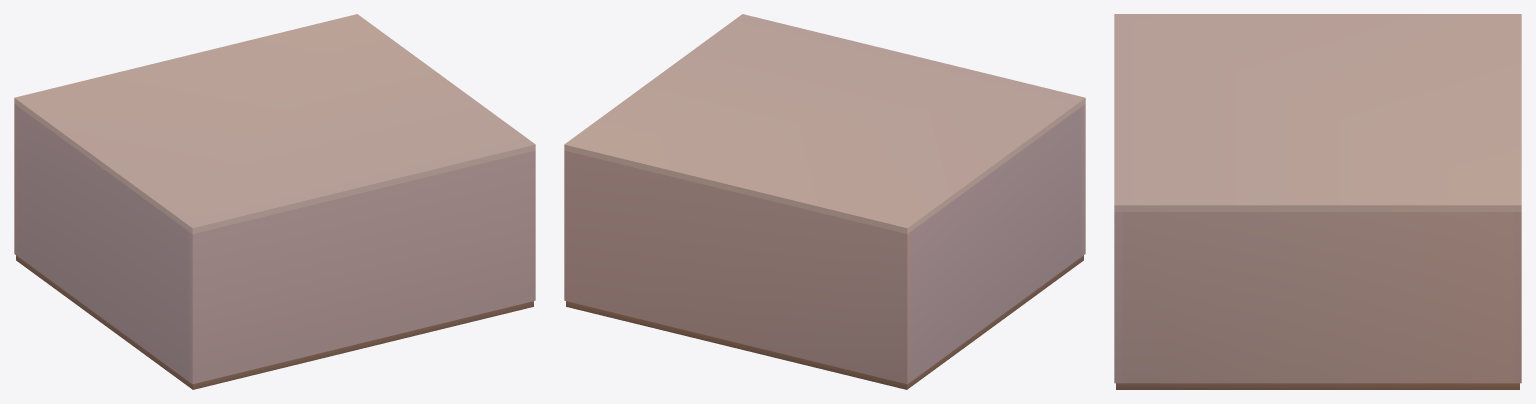
The model's file is bedroom.glb.
3 views of the same model, side by side, from view 1: azimuth 30°, elevation 25°; view 2: azimuth 150°, elevation 25°; view 3: azimuth 270°, elevation 25° (orthographic). The views are drawn at different scales.
Visible parts, largest first — view 1: Bedroom plaster and oak floor; view 2: Bedroom plaster and oak floor; view 3: Bedroom plaster and oak floor.
Boxes of the visible parts, x1=… form: Bedroom plaster and oak floor: x1=14, y1=14, x2=535, y2=389; Bedroom plaster and oak floor: x1=564, y1=14, x2=1085, y2=389; Bedroom plaster and oak floor: x1=1114, y1=14, x2=1521, y2=389.
Bounding box in the file's own units: 6.6 × 2.99 × 5.94.
